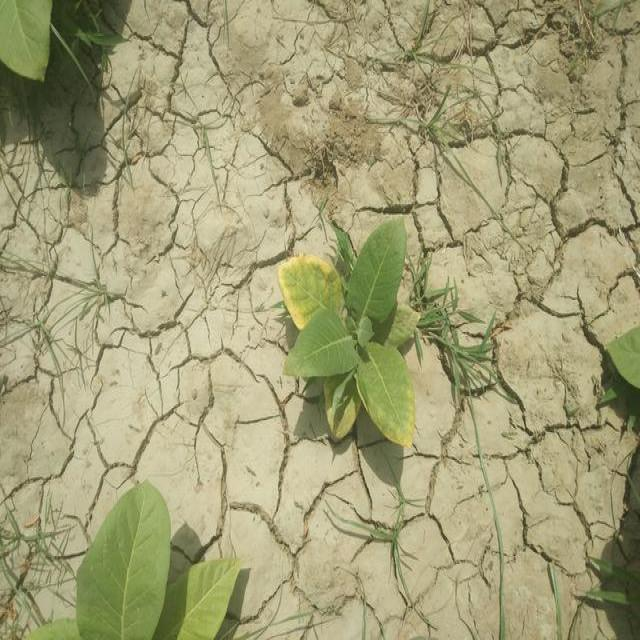crop: (33, 477, 238, 640), (276, 239, 430, 448), (0, 4, 53, 80)
